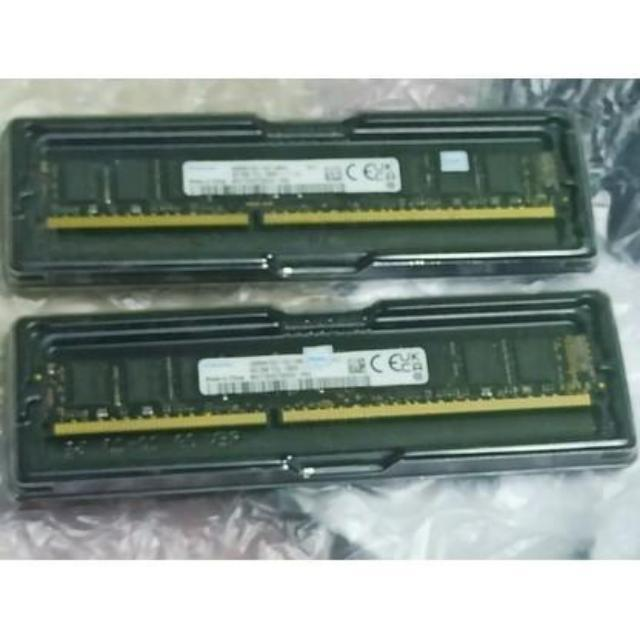RAM: (28, 302, 603, 454), (36, 130, 559, 232)
